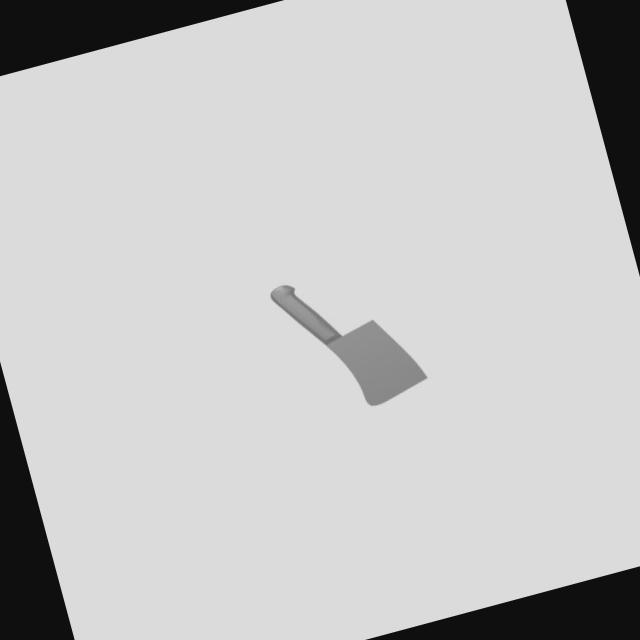knife: (268, 272, 344, 355)
